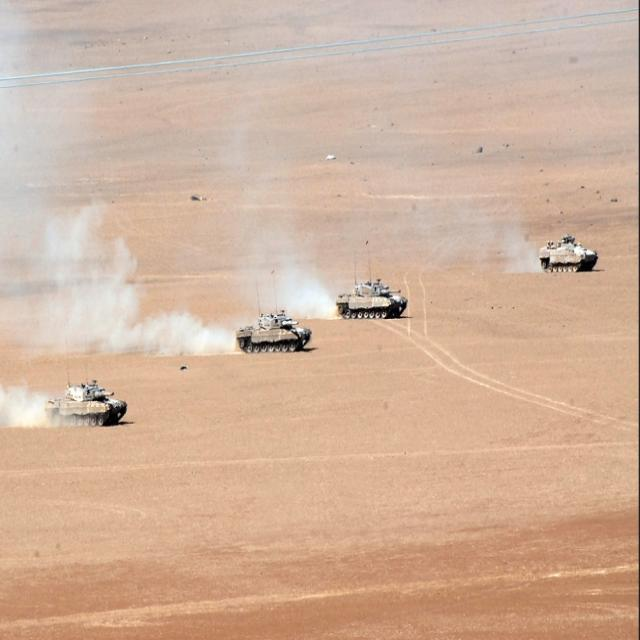Tanks: (45, 380, 128, 426), (336, 271, 408, 320), (235, 310, 312, 354), (538, 234, 602, 273)
